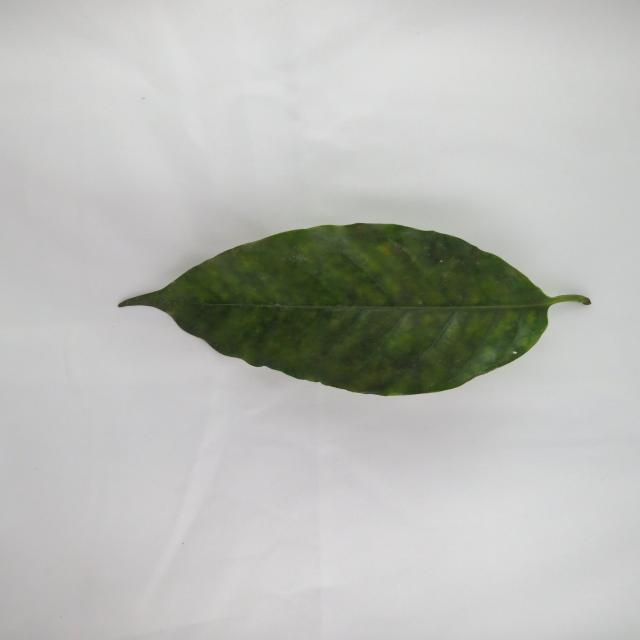DeficienciaNutricional-Magnesio: (120, 224, 588, 395)
